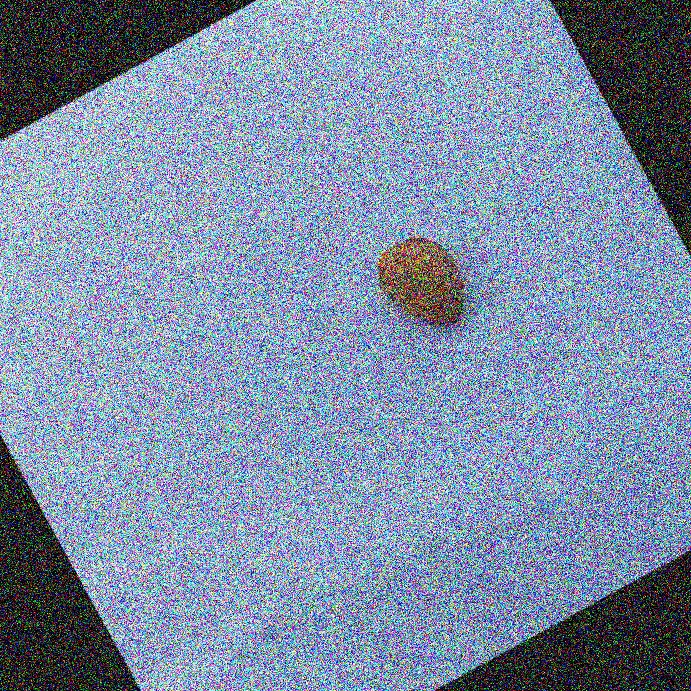grade2: (360, 219, 485, 351)
